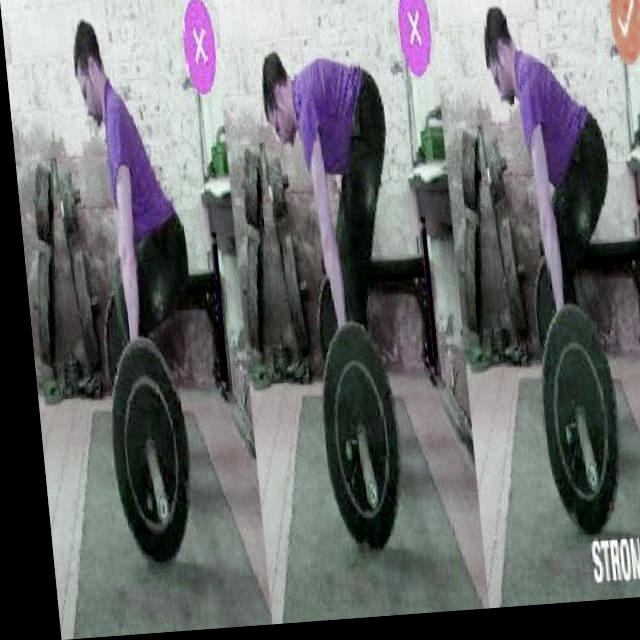barbell: (300, 316, 405, 572), (86, 332, 193, 577), (517, 310, 624, 547)
